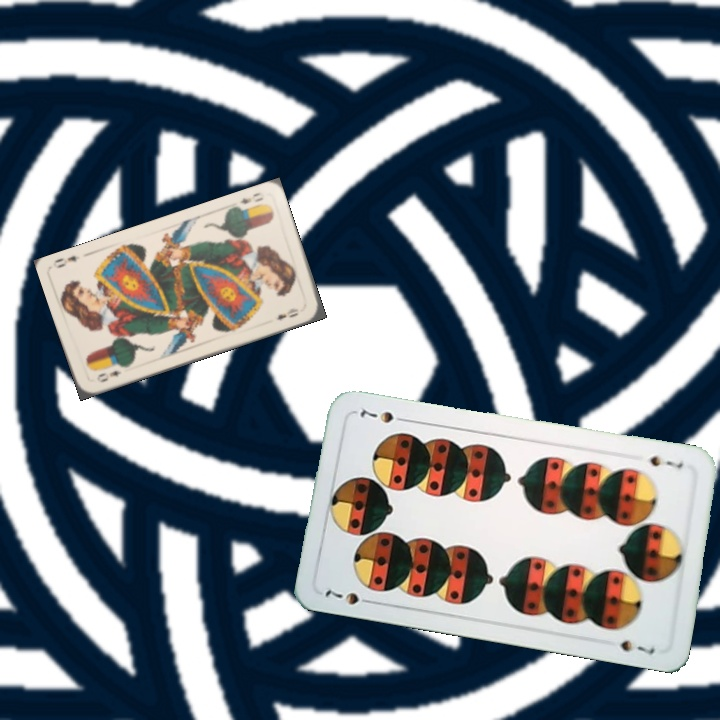EO: (92, 366, 124, 385), (235, 188, 266, 206)
S7: (321, 584, 377, 607), (646, 451, 685, 471)
